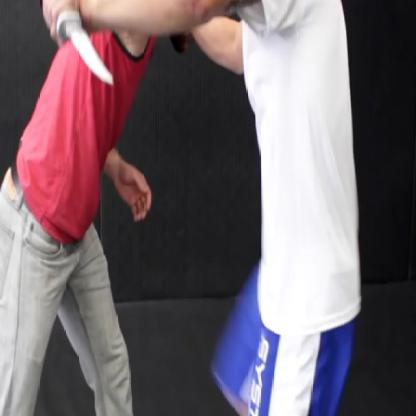knife: (35, 0, 120, 98)
